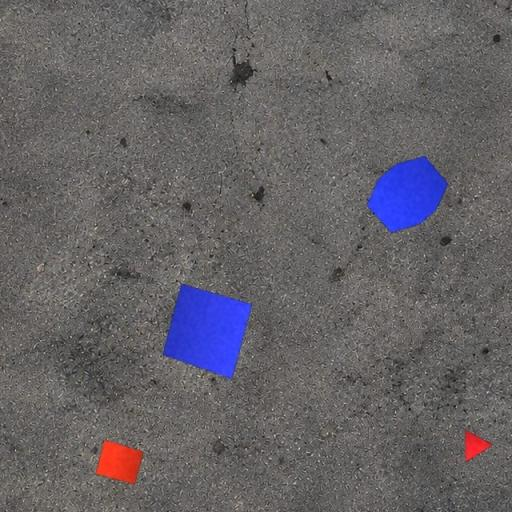BLUE_SQUARE: (162, 283, 253, 380)
RED_SQUARE: (95, 439, 144, 485)
